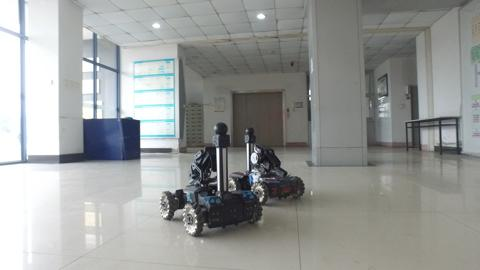chariot: (154, 123, 266, 242), (227, 126, 306, 211)
